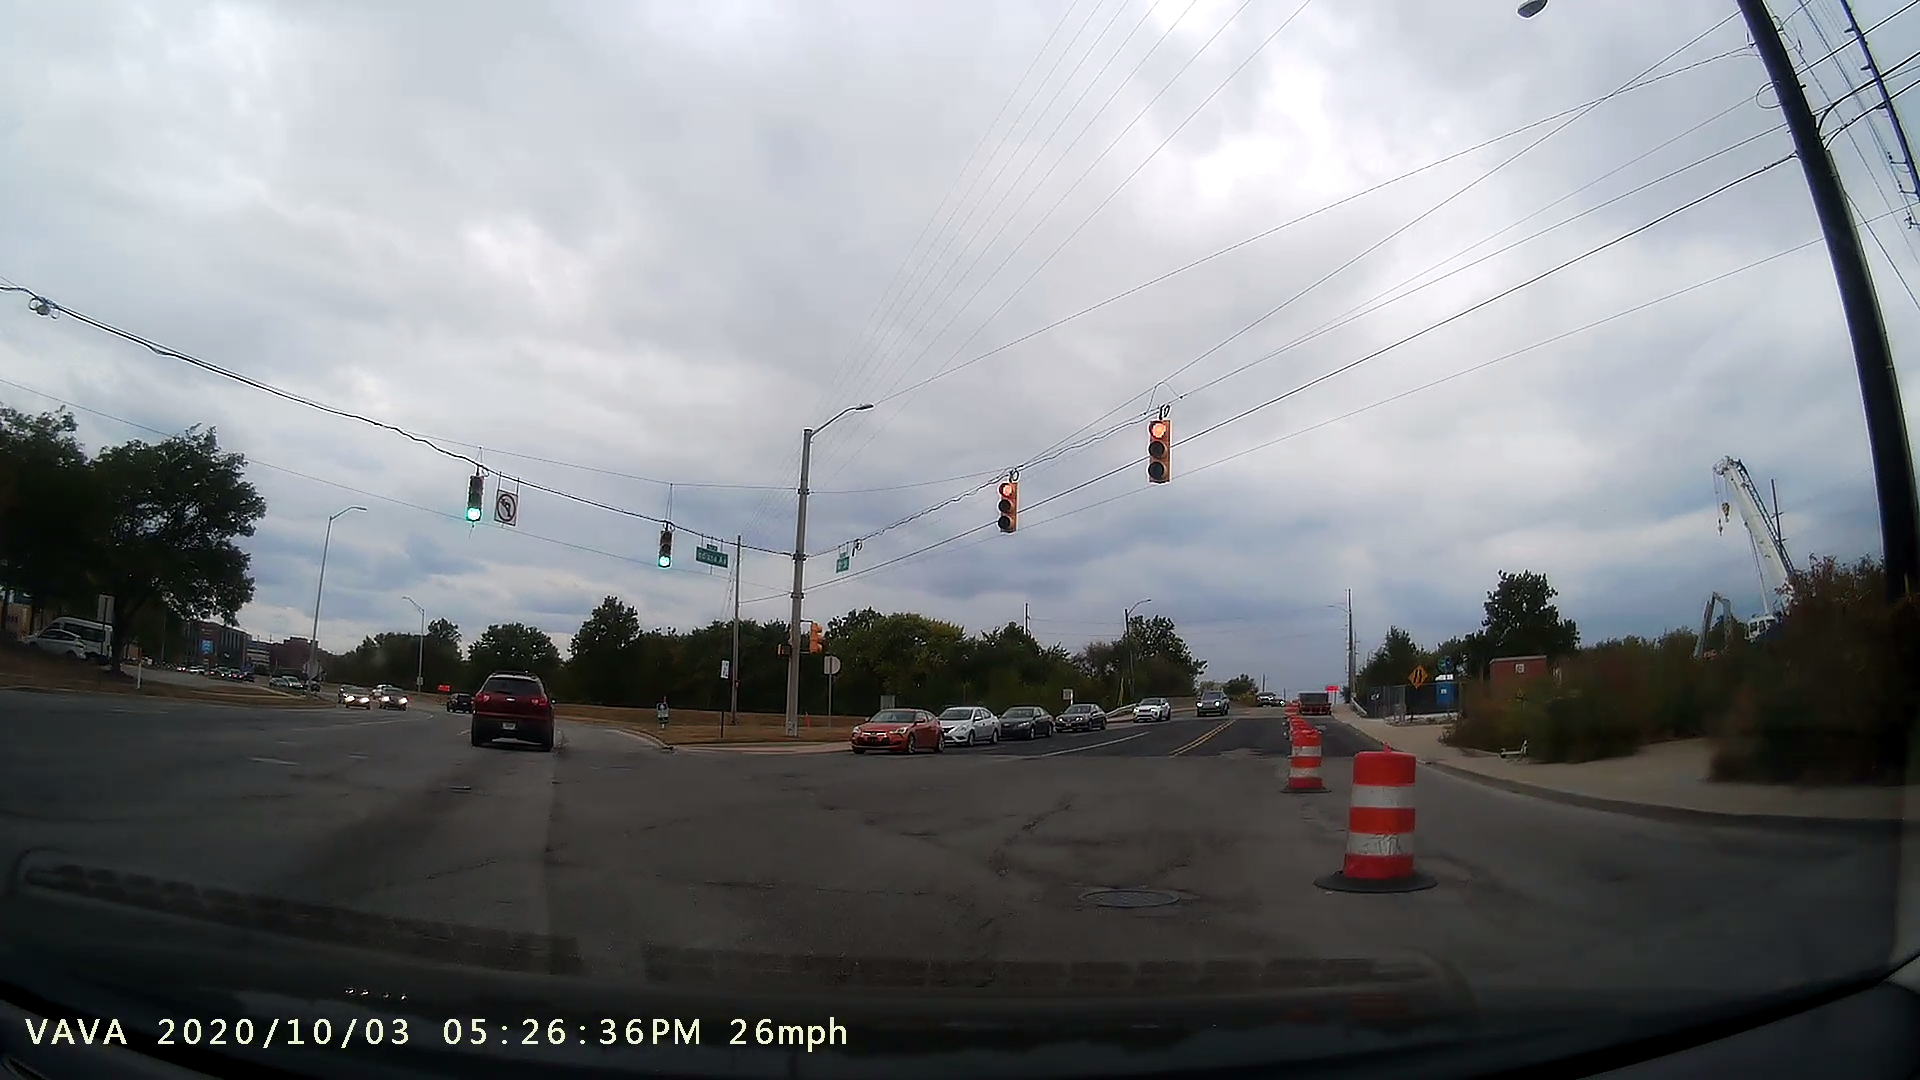const_barrel: (1313, 737, 1458, 902), (1284, 719, 1332, 798)
